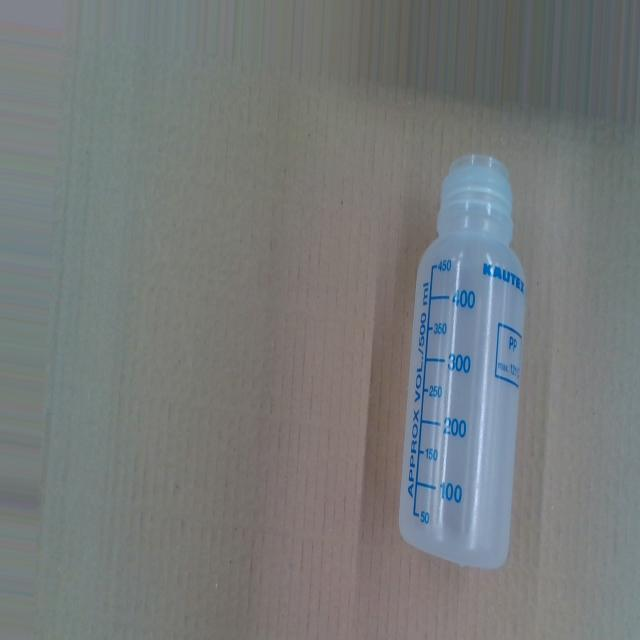bottle: (396, 147, 527, 578)
